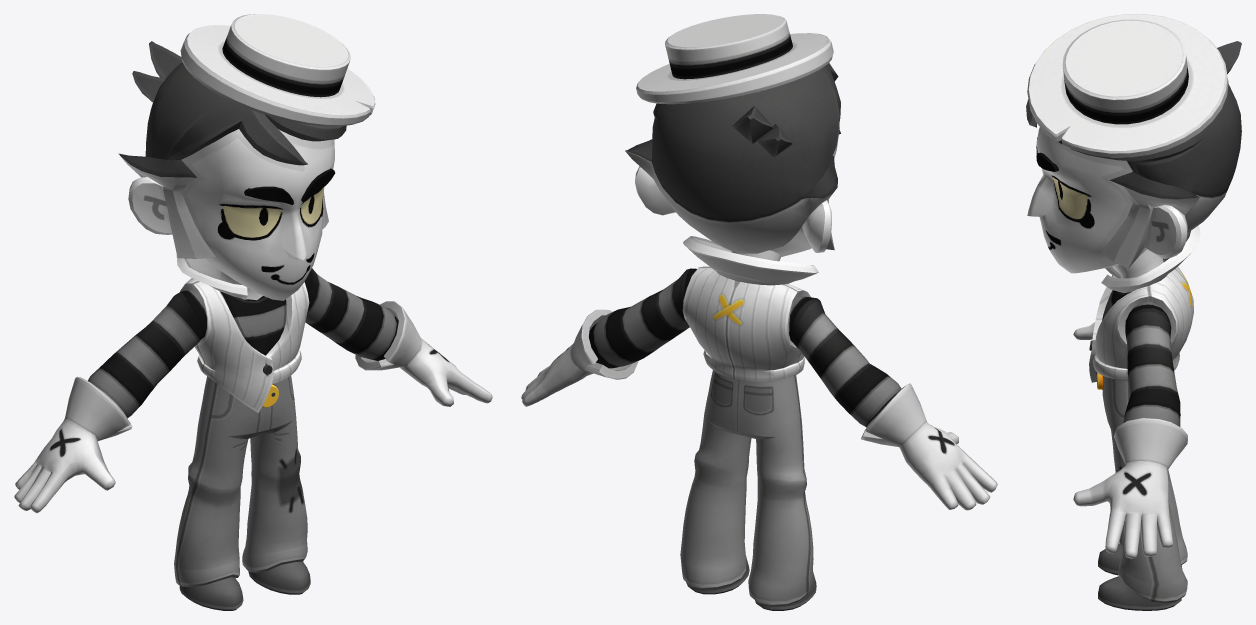
The picture shows the model from 3 angles, left to right: view 1: azimuth 30°, elevation 25°; view 2: azimuth 150°, elevation 25°; view 3: azimuth 270°, elevation 25°; orthographic projection.
Parts seen in each view (by area): view 1: body_GEO:PIV.001; view 2: body_GEO:PIV.001; view 3: body_GEO:PIV.001.
Boxes of the visible parts, x1,y1,x2,y2 form: body_GEO:PIV.001: (14,14,492,610); body_GEO:PIV.001: (521,14,997,610); body_GEO:PIV.001: (1026,14,1241,610).
Size of the model in its own units: 10.92 by 12.57 by 4.41.
Materials: 1 (1 with a texture image).
